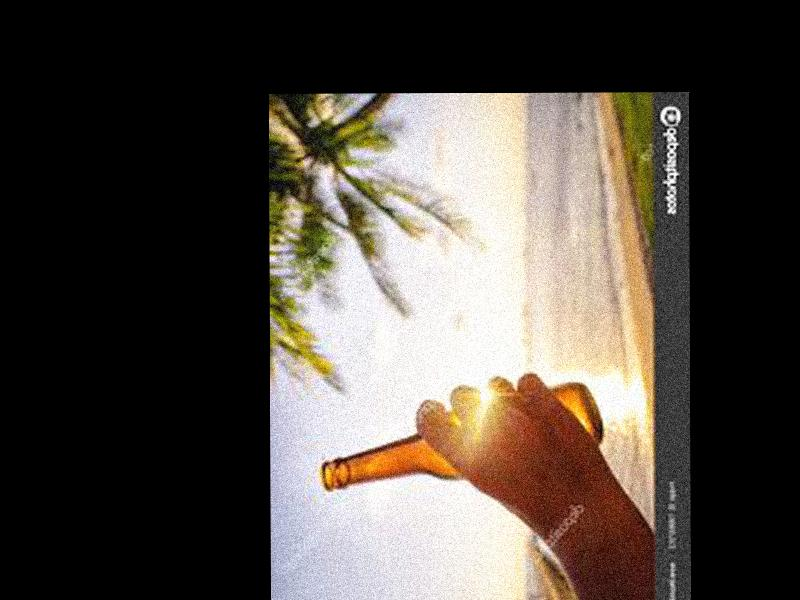Beer: (320, 382, 603, 492)
